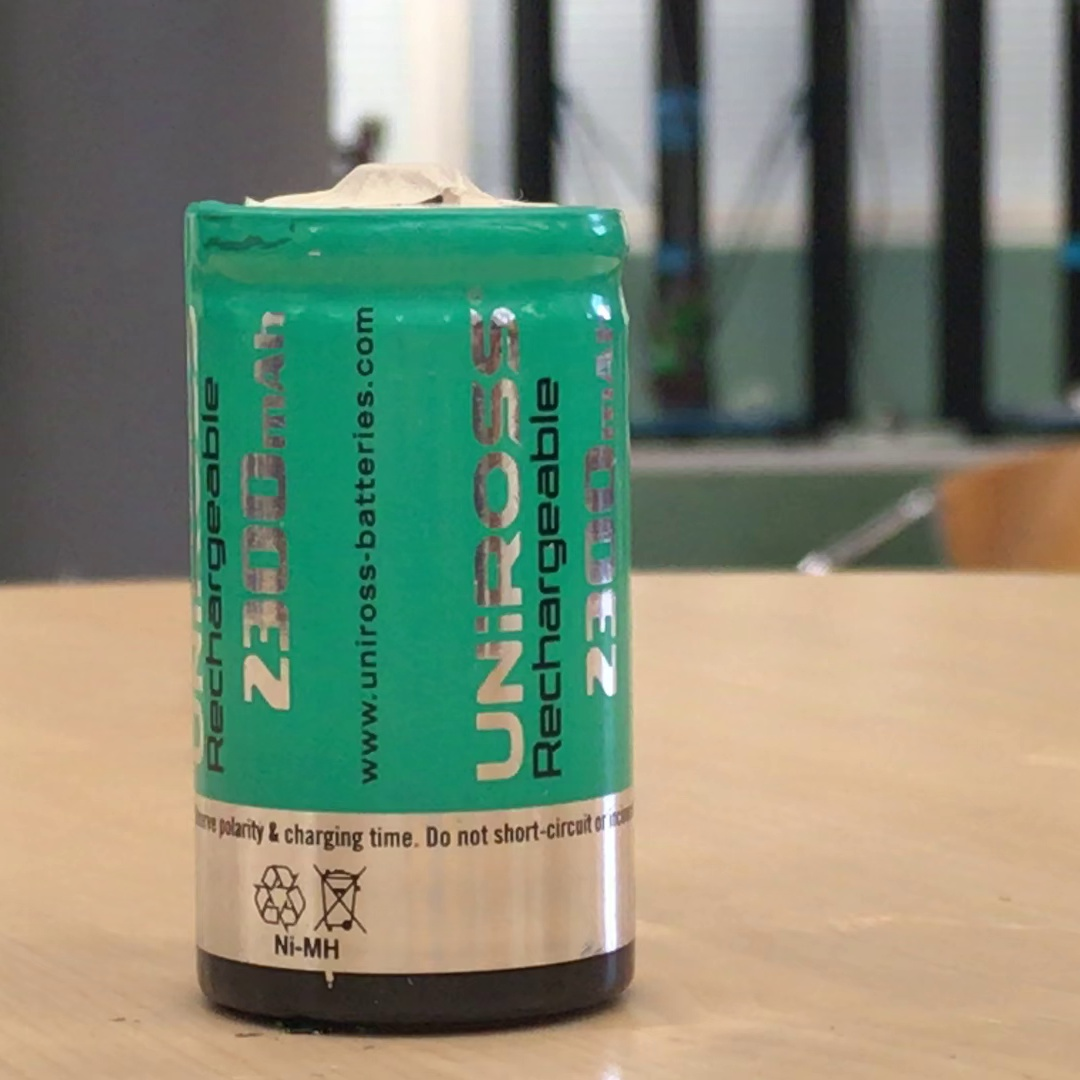keyword: (265, 928, 349, 965)
